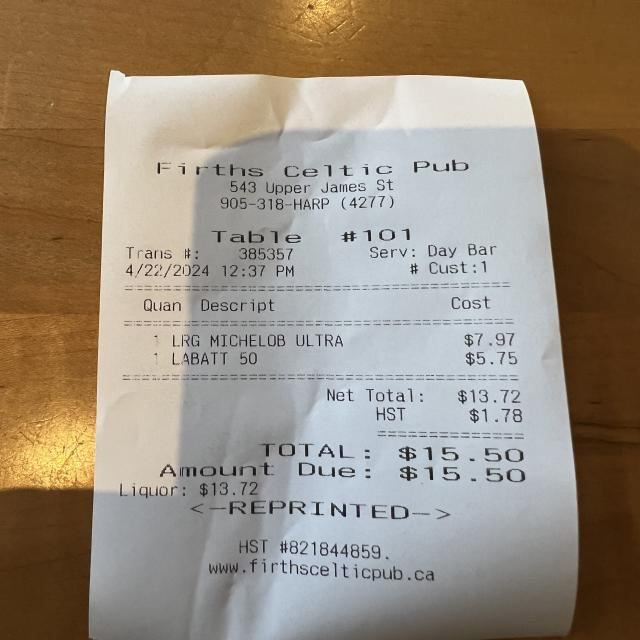item: (162, 347, 524, 372), (161, 324, 523, 349)
store_name: (145, 154, 479, 182)
total_amount: (255, 434, 529, 467)
transaction_date: (121, 259, 218, 285)
